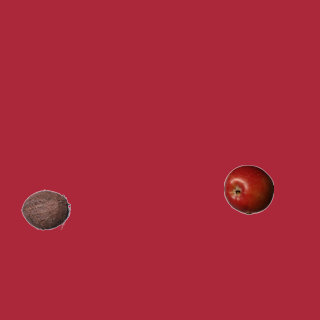Apple Braeburn: (223, 164, 273, 214)
Cocos: (20, 184, 70, 234)
